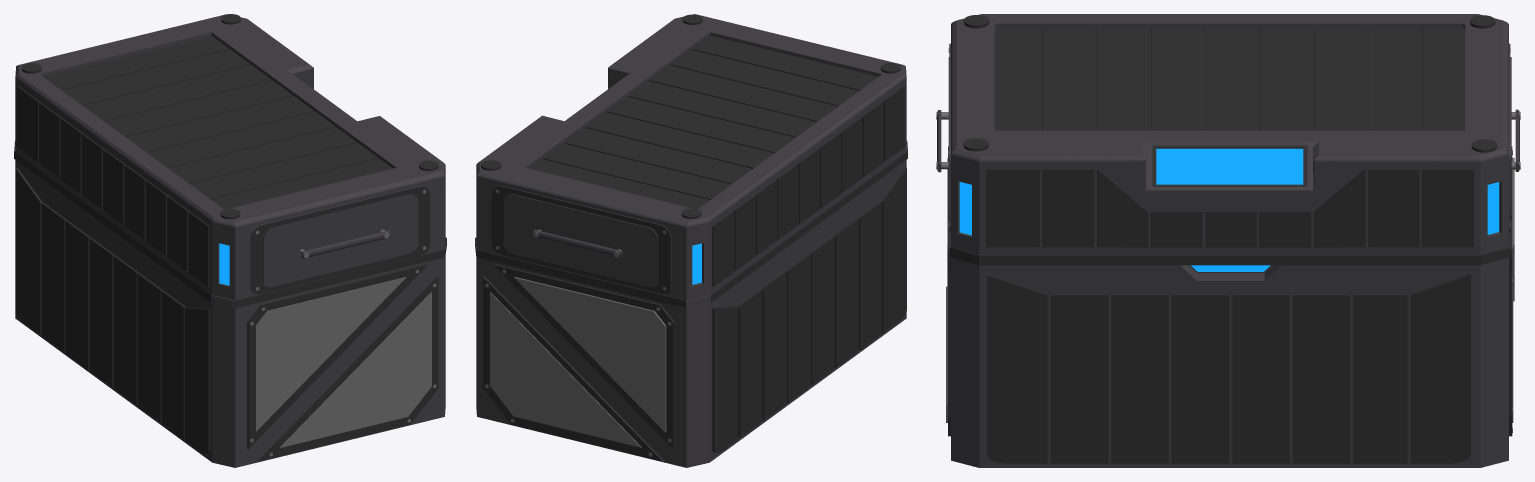
Rendered from scificrate.fbx.
3 renders of one model, left to right at view 1: azimuth 30°, elevation 25°; view 2: azimuth 150°, elevation 25°; view 3: azimuth 270°, elevation 25°, orthographic. The views are drawn at different scales.
Visible parts, largest first — view 1: Plane; view 2: Plane; view 3: Plane.
Boxes of the visible parts, left/top/right/bottom form: Plane: left=14, top=14, right=446, bottom=467; Plane: left=475, top=14, right=907, bottom=467; Plane: left=936, top=14, right=1520, bottom=467.
Bounding box in the file's own units: 335 × 332 × 562.
